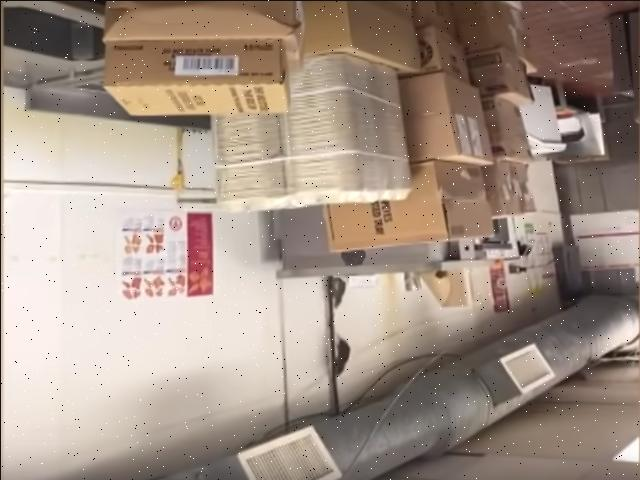Tikus: (329, 331, 354, 381), (323, 274, 347, 313)
